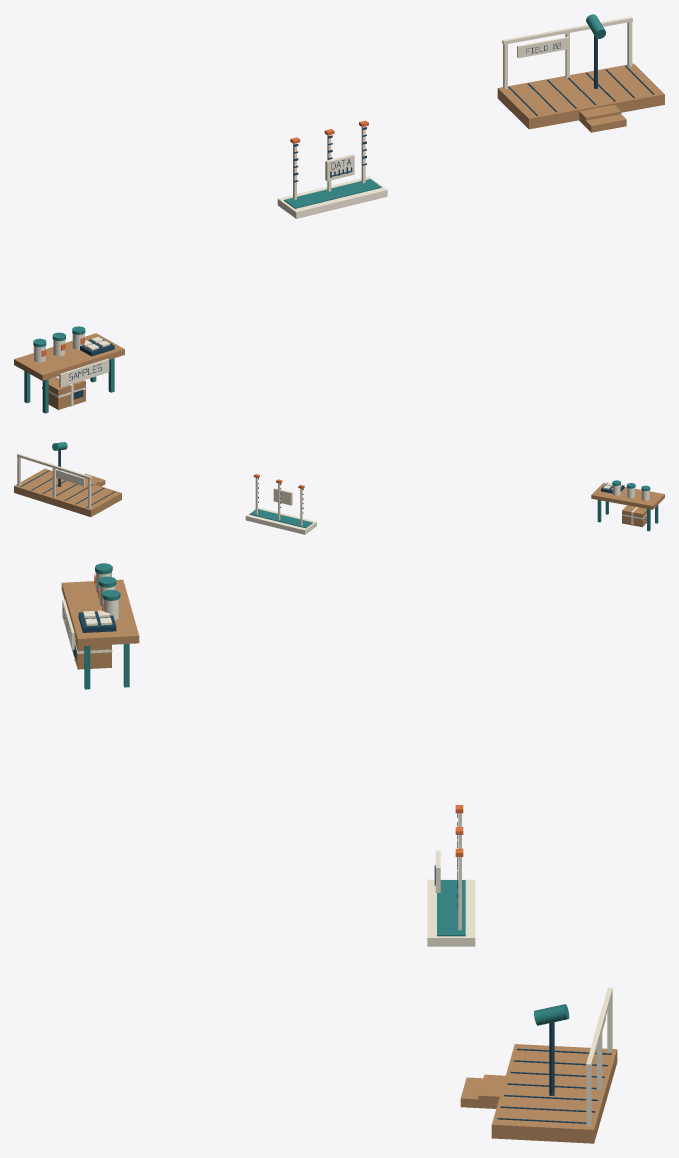
The model's file is research.glb.
3 renders of one model, top to bottom at view 1: azimuth 30°, elevation 25°; view 2: azimuth 150°, elevation 25°; view 3: azimuth 270°, elevation 25°, orthographic. The views are drawn at different scales.
Parts seen in each view (by area): view 1: static_detail_wood, static_detail_ivory, static_detail_teal, static_detail_navy; view 2: static_detail_wood, static_detail_ivory, static_detail_teal, static_detail_navy; view 3: static_detail_wood, static_detail_ivory, static_detail_teal, static_detail_navy.
Boxes of the visible parts, left/top/right/bottom form: static_detail_wood: left=14, top=63, right=664, bottom=409; static_detail_ivory: left=33, top=16, right=632, bottom=406; static_detail_teal: left=24, top=14, right=606, bottom=413; static_detail_navy: left=69, top=35, right=654, bottom=399; static_detail_wood: left=14, top=468, right=664, bottom=527; static_detail_ivory: left=17, top=453, right=649, bottom=534; static_detail_teal: left=52, top=442, right=658, bottom=531; static_detail_navy: left=20, top=450, right=624, bottom=513; static_detail_wood: left=61, top=579, right=617, bottom=1143; static_detail_ivory: left=62, top=572, right=612, bottom=1126; static_detail_teal: left=84, top=563, right=569, bottom=1025; static_detail_navy: left=63, top=608, right=611, bottom=1123.
Bounding box in the file's own units: 17.5 × 1.7 × 8.08.
